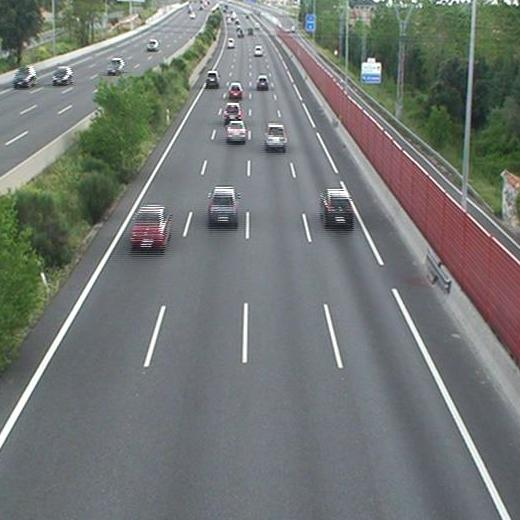car: (130, 206, 170, 247), (321, 189, 354, 224), (208, 187, 237, 223), (264, 124, 287, 148), (227, 121, 247, 141), (224, 103, 242, 121), (228, 83, 242, 98), (206, 72, 219, 87), (256, 75, 269, 87), (253, 45, 263, 56)
